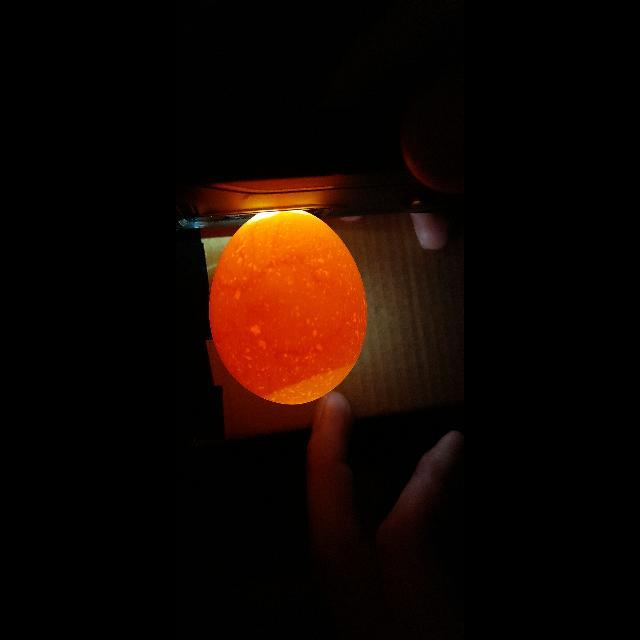Fertile: (202, 208, 370, 410)
